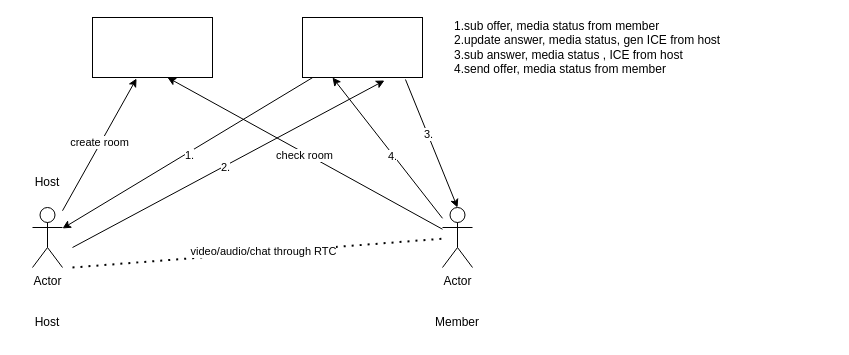
The diagram is 849 pixels wide and 355 high, and some of its shapes have lost their labels. Here are the shapes that lost their labels. From the top down, the box of each, then its label:
(92, 16, 212, 78): API service
(302, 16, 422, 78): Signaling service
